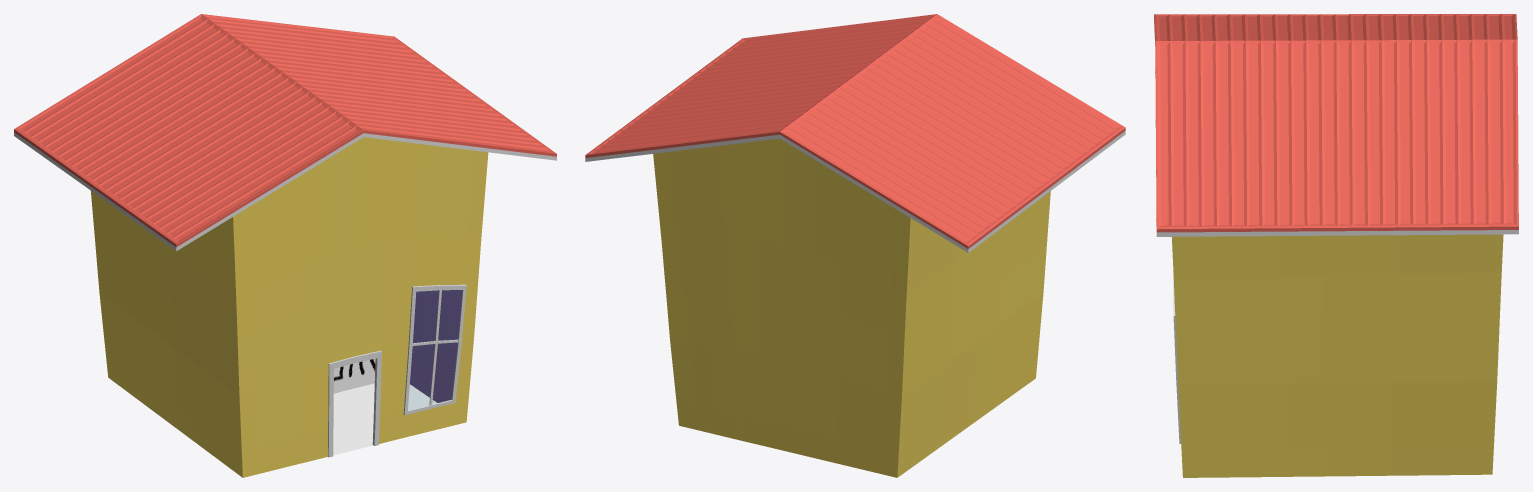
The model's file is house.fbx.
3 views of the same model, side by side, from view 1: azimuth 30°, elevation 25°; view 2: azimuth 150°, elevation 25°; view 3: azimuth 270°, elevation 25° (orthographic). The views are drawn at different scales.
Parts seen in each view (by area): view 1: Walls, Roof, Window, Floor, Window_Sill, Door, Wall_Interior; view 2: Walls, Roof; view 3: Roof, Walls.
Boxes of the visible parts, x1,y1,x2,y2 form: Walls: (91, 137, 488, 477); Roof: (14, 14, 556, 250); Window: (408, 290, 461, 409); Floor: (333, 383, 437, 455); Window_Sill: (403, 284, 466, 415); Door: (328, 350, 381, 457); Wall_Interior: (333, 358, 375, 393); Walls: (653, 138, 1050, 477); Roof: (585, 14, 1125, 252); Roof: (1154, 14, 1518, 236); Walls: (1171, 234, 1503, 477).
Bounding box in the file's own units: 321 × 262 × 233.
